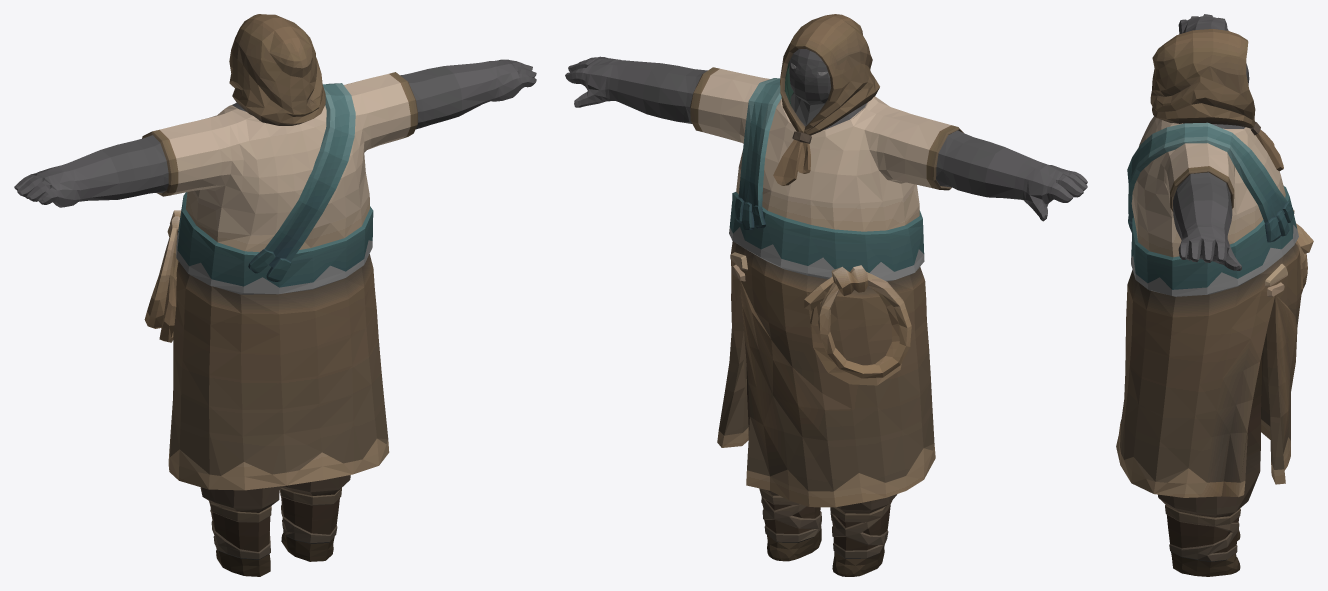
The model's file is NPC_AP27Herder.glb.
The picture shows the model from 3 angles, left to right: view 1: azimuth 30°, elevation 25°; view 2: azimuth 150°, elevation 25°; view 3: azimuth 270°, elevation 25°; orthographic projection. The views are drawn at different scales.
Visible parts, largest first — view 1: NPC_AP27Herder; view 2: NPC_AP27Herder; view 3: NPC_AP27Herder.
Boxes of the visible parts, x1,y1,x2,y2 form: NPC_AP27Herder: (14,14,536,576); NPC_AP27Herder: (565,14,1087,576); NPC_AP27Herder: (1116,14,1313,576).
Size of the model in its own units: 14.05 by 13.99 by 4.81.
Materials: 1 (1 with a texture image).
